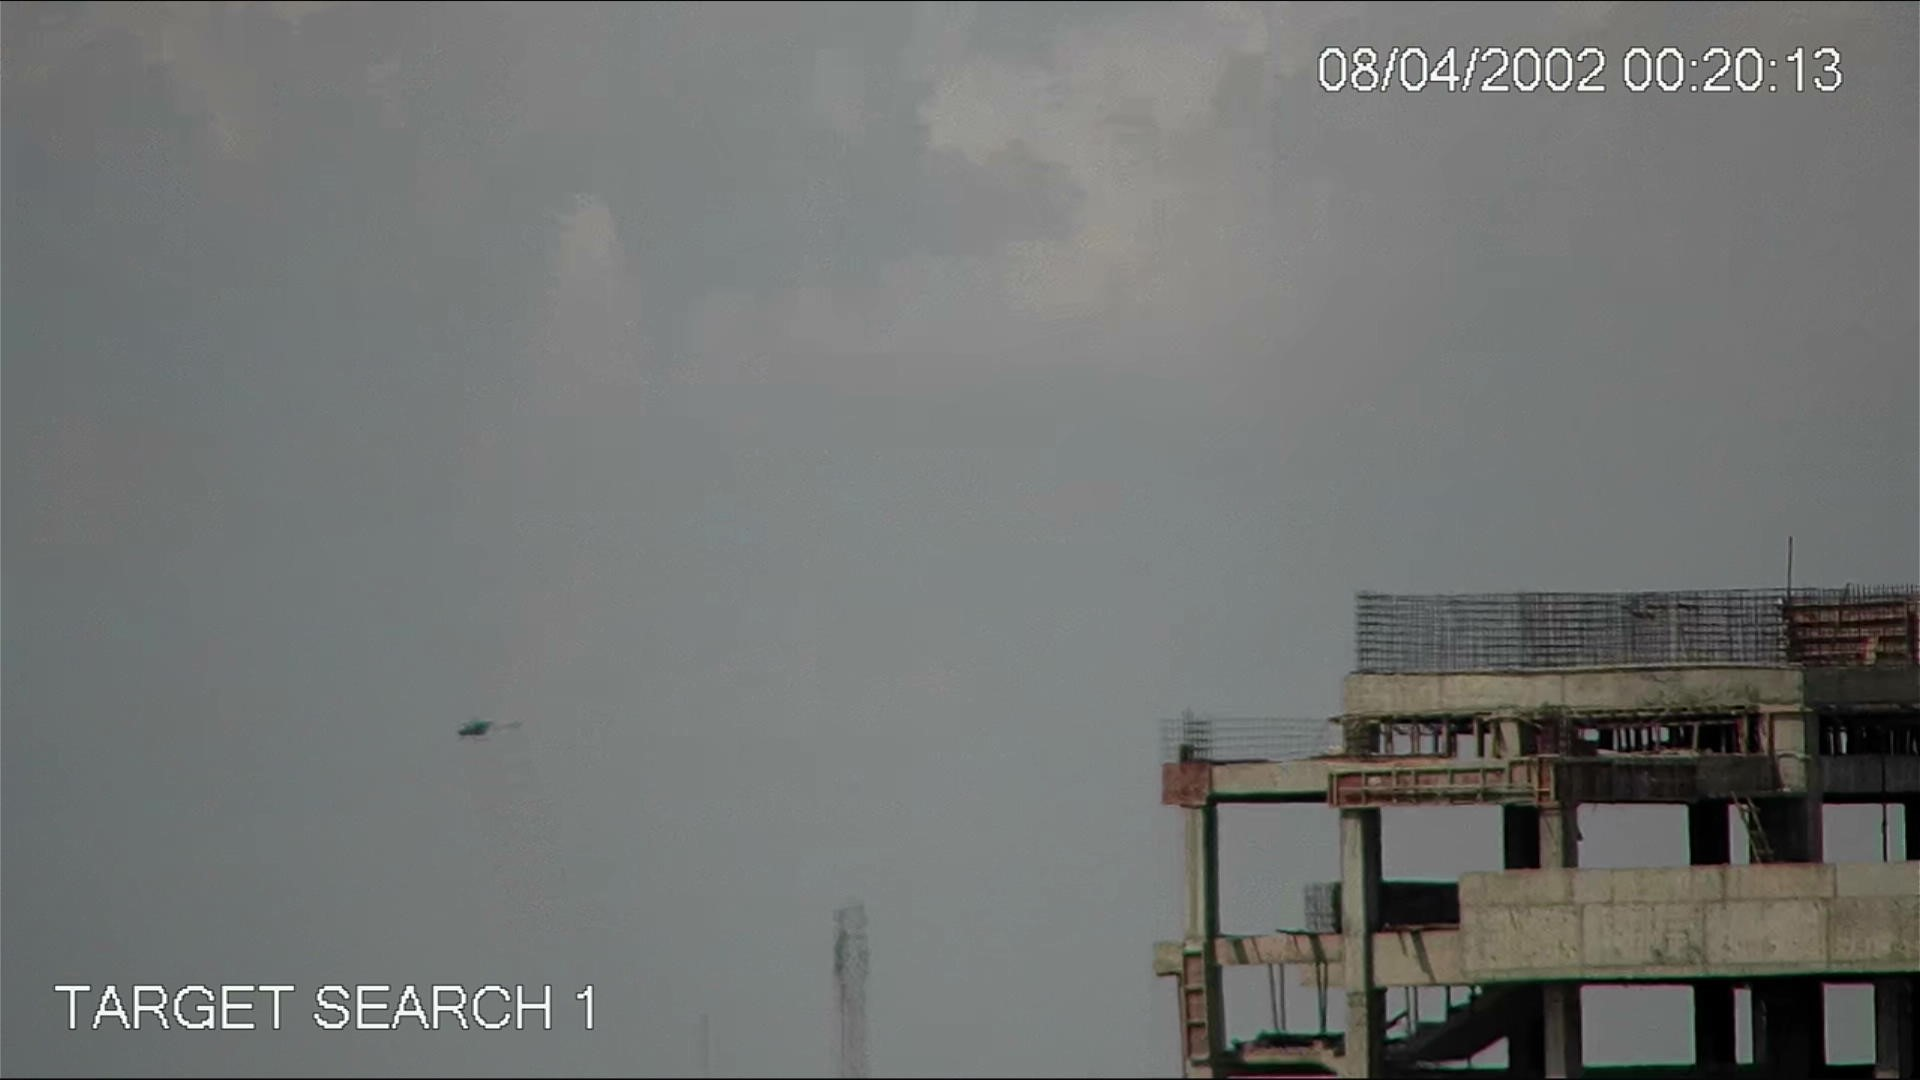SU_30: (448, 712, 527, 745)
